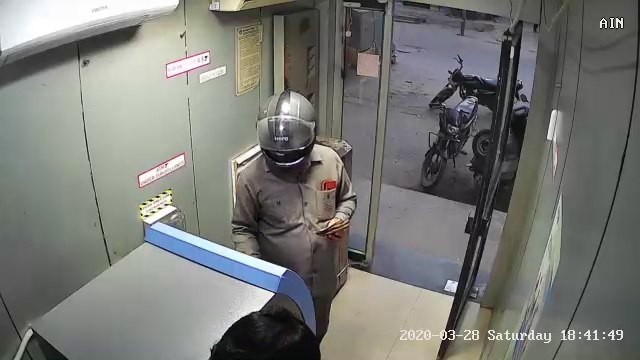helmet: (253, 90, 323, 174)
